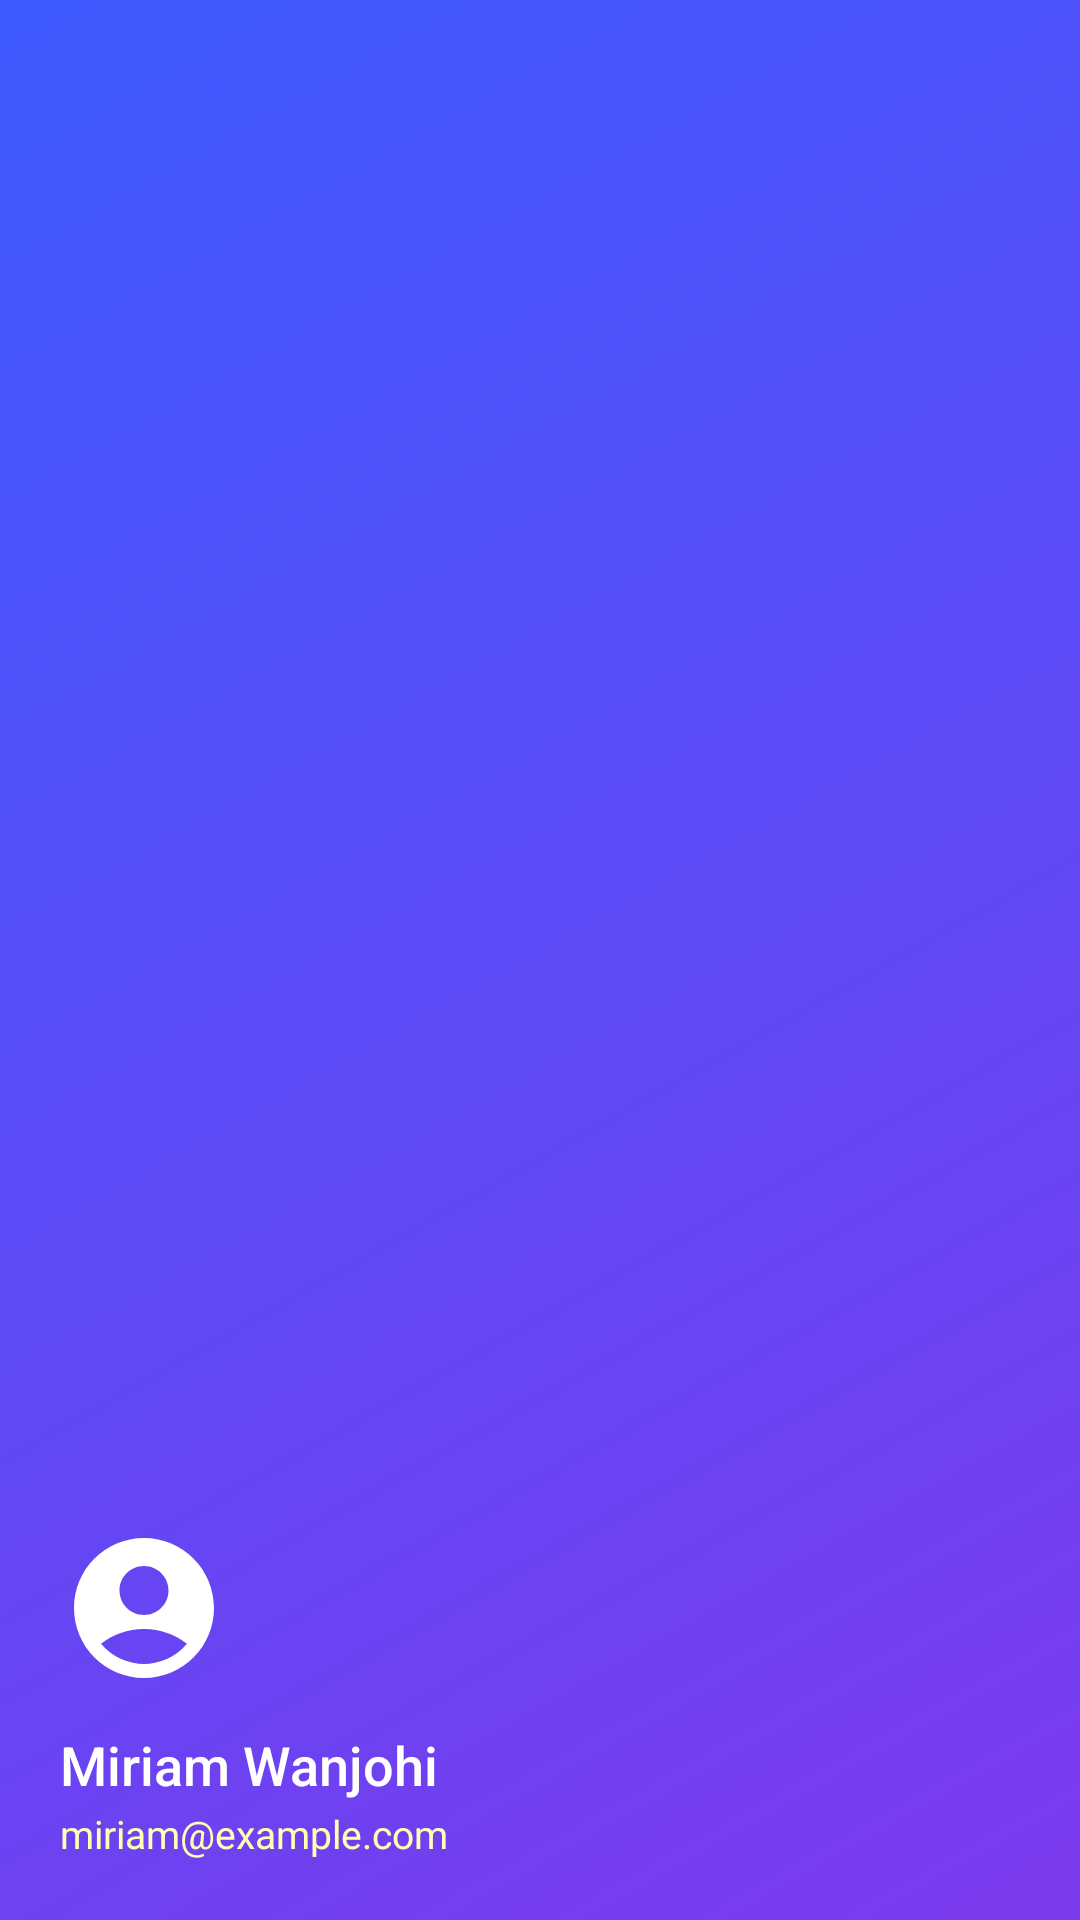

Icon bounding boxes for this 1080px x 1920px phone screenshot, format {"left": x1, "top": y1, "right": x2, "bottom": y2}:
Profile photo: {"left": 74, "top": 1538, "right": 214, "bottom": 1678}
